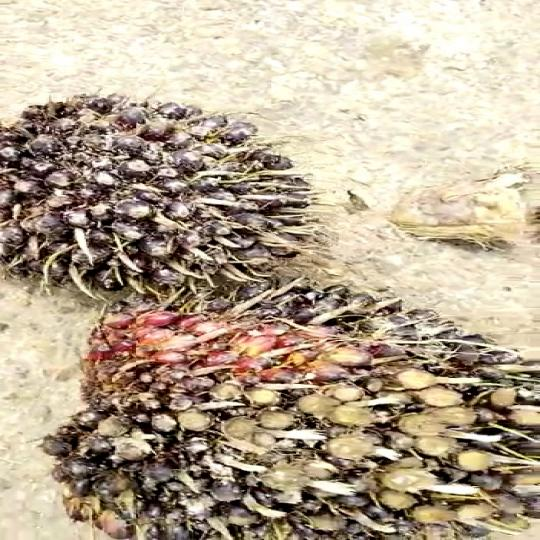mentah: (41, 289, 540, 540), (0, 71, 334, 294)
